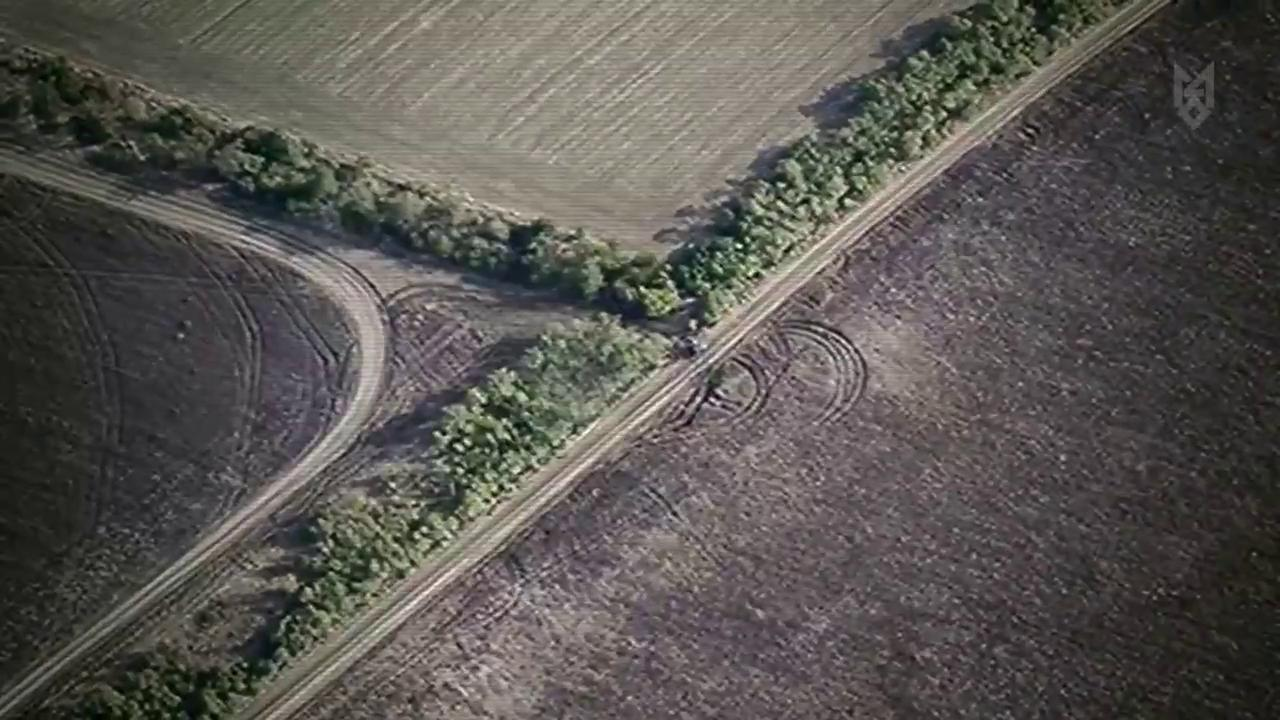tank: (674, 328, 716, 365)
